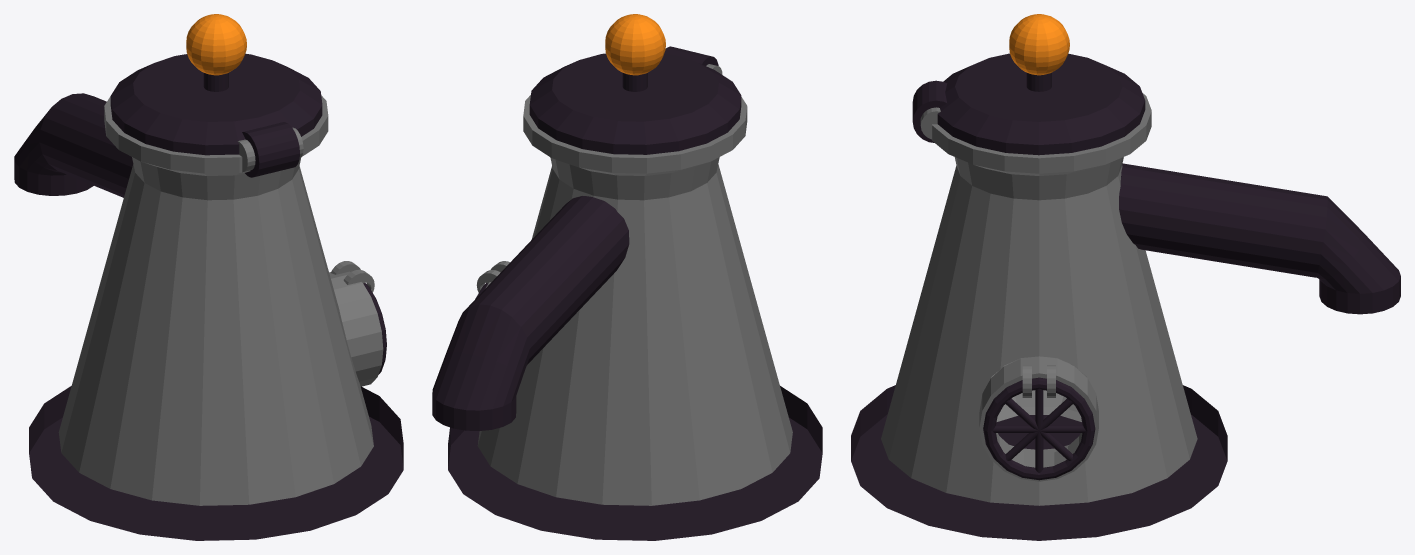
Rendered from BrewingStation.fbx.
3 views of the same model, side by side, from view 1: azimuth 30°, elevation 25°; view 2: azimuth 150°, elevation 25°; view 3: azimuth 270°, elevation 25° (orthographic).
Visible parts, largest first — view 1: Cone; view 2: Cone; view 3: Cone.
Boxes of the visible parts, <box> form: Cone: <box>14,14,403,540</box>; Cone: <box>432,14,822,540</box>; Cone: <box>851,14,1400,540</box>.
Size of the model in its own units: 195 by 254 by 285.
